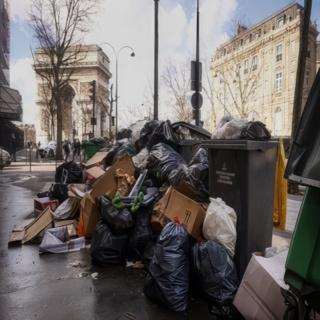Garbage: (142, 216, 194, 319), (192, 237, 238, 319), (90, 193, 131, 270), (202, 194, 237, 256), (146, 142, 185, 187), (208, 113, 247, 139), (241, 118, 271, 141)
